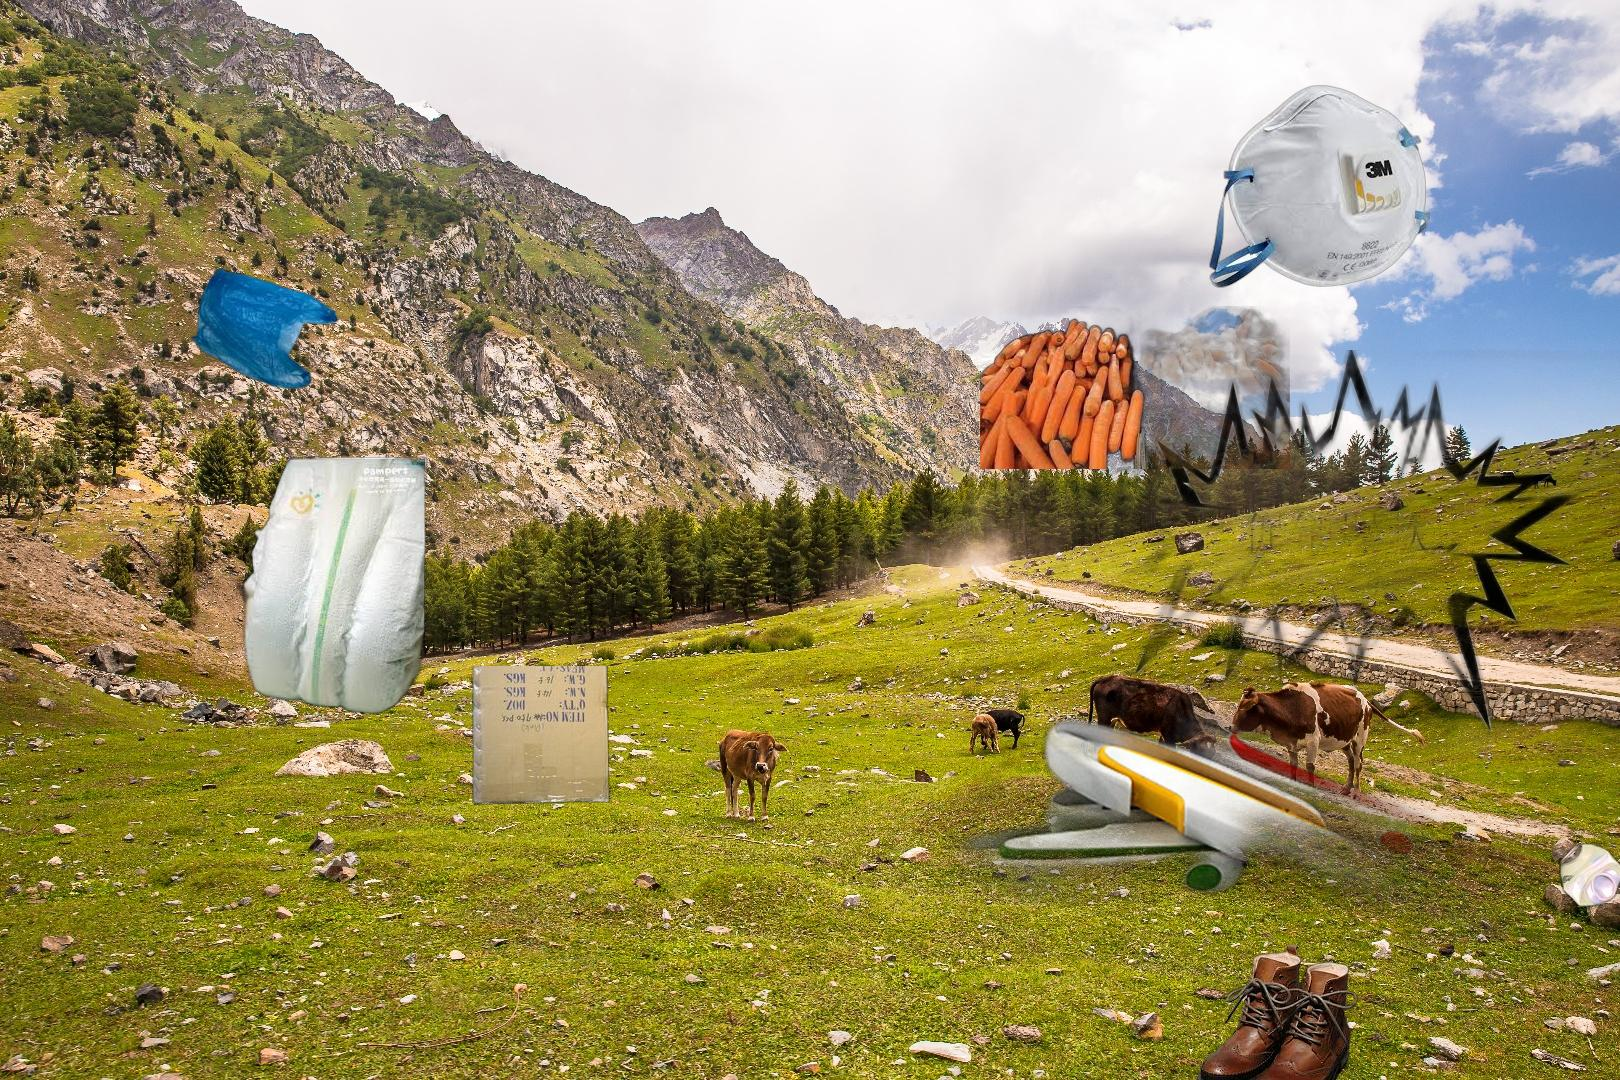biological: (980, 306, 1290, 469)
metal-cans: (1555, 837, 1620, 912)
penholder: (932, 350, 1620, 1080)
plastic-bag: (190, 265, 341, 392)
shoes: (1193, 941, 1361, 1080)
trash: (237, 457, 427, 722), (1207, 83, 1432, 299)
trashbox-cardboard: (470, 667, 612, 808)
